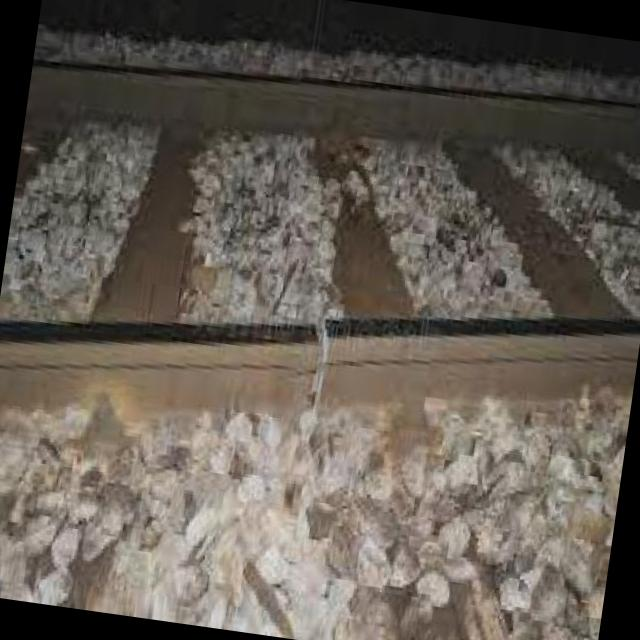defective: (0, 140, 552, 555)
